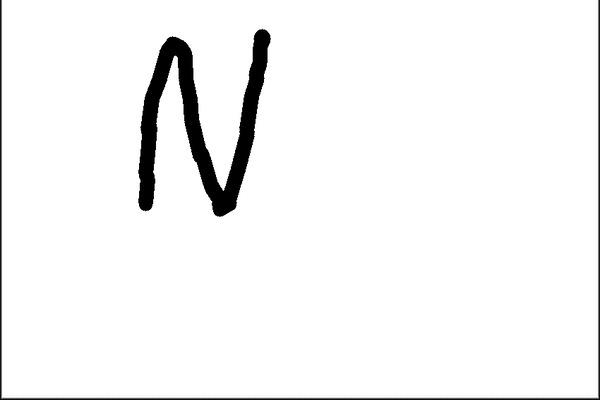N: (130, 22, 273, 222)
